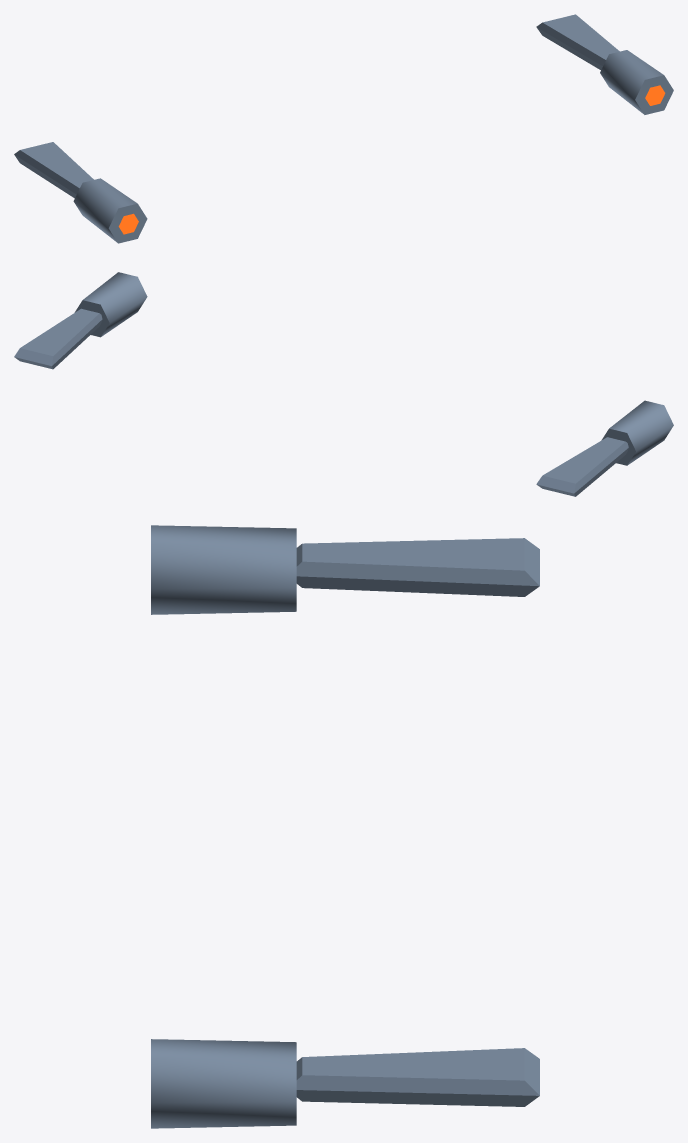
The model's file is bf_elite_afterburner.glb.
3 views of the same model, one above another, from view 1: azimuth 30°, elevation 25°; view 2: azimuth 150°, elevation 25°; view 3: azimuth 270°, elevation 25° (orthographic). The views are drawn at different scales.
Visible parts, largest first — view 1: ELITE // LONGSTREAMERS; view 2: ELITE // LONGSTREAMERS; view 3: ELITE // LONGSTREAMERS.
Boxes of the visible parts, bbox=[...] form: ELITE // LONGSTREAMERS: bbox=[14, 14, 673, 243]; ELITE // LONGSTREAMERS: bbox=[14, 272, 673, 496]; ELITE // LONGSTREAMERS: bbox=[151, 525, 539, 1128].
Size of the model in its own units: 2.28 by 0.136 by 0.6851.
